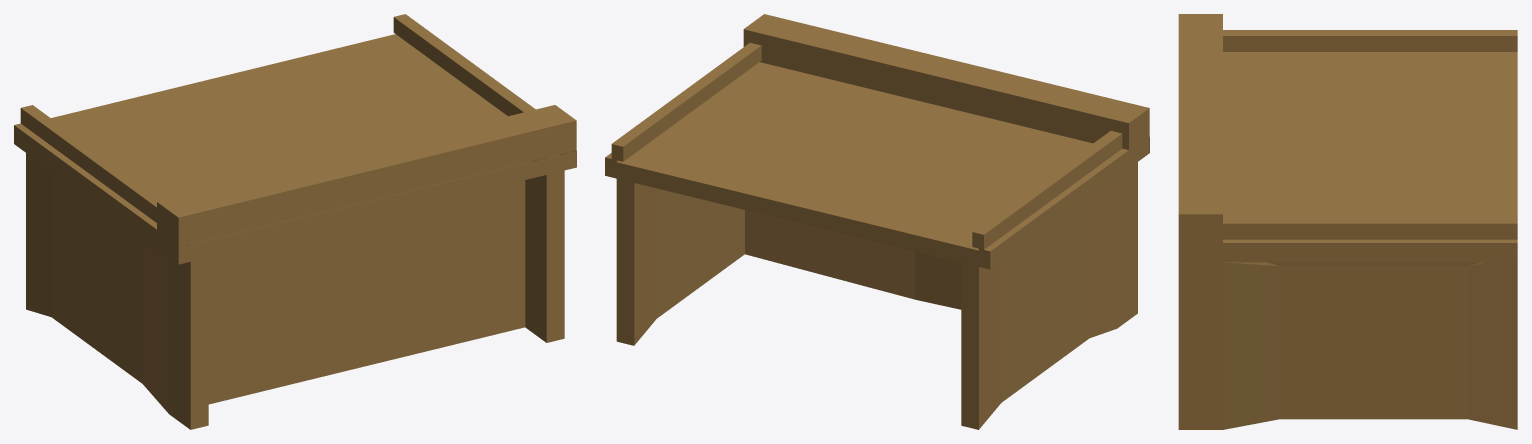
The model's file is MESITAGAMER.fbx.
3 views of the same model, side by side, from view 1: azimuth 30°, elevation 25°; view 2: azimuth 150°, elevation 25°; view 3: azimuth 270°, elevation 25° (orthographic). The views are drawn at different scales.
Visible parts, largest first — view 1: Cube; view 2: Cube; view 3: Cube.
Part boxes in pixels (<box>): Cube: <box>14,14,576,429</box>; Cube: <box>605,14,1149,429</box>; Cube: <box>1178,14,1517,429</box>.
Bounding box in the file's own units: 751 × 388 × 538.
